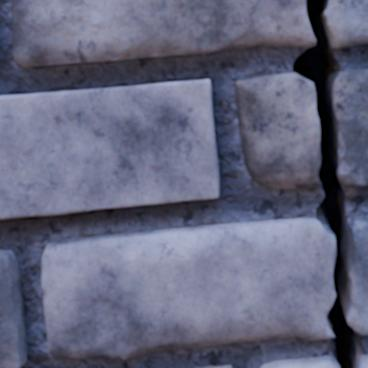brick: (0, 80, 218, 218), (0, 250, 26, 367), (203, 366, 230, 367)
broken_brick: (40, 216, 334, 359), (11, 0, 314, 68), (235, 72, 319, 189), (335, 67, 367, 187), (348, 214, 367, 335), (326, 0, 367, 49), (259, 355, 337, 367), (361, 354, 367, 367)
crack: (292, 0, 365, 367)
